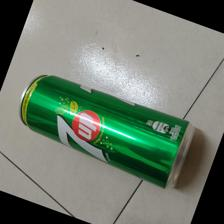7up: (18, 74, 194, 191)
